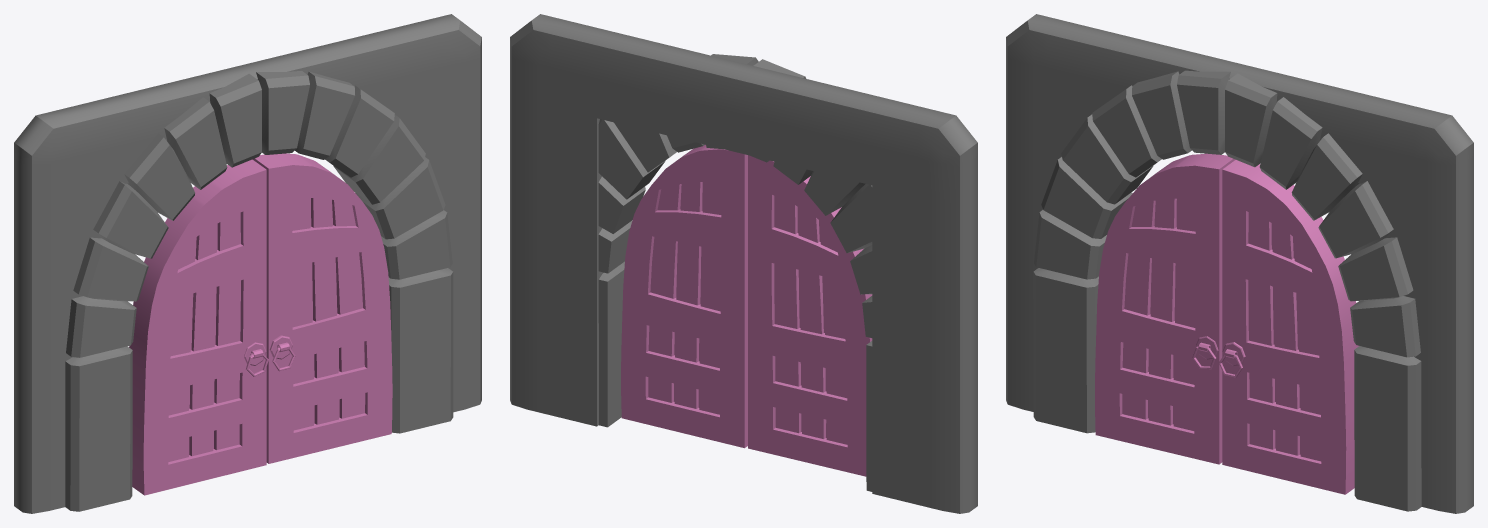
The model's file is LevelPortal.fbx.
3 views of the same model, side by side, from view 1: azimuth 30°, elevation 25°; view 2: azimuth 150°, elevation 25°; view 3: azimuth 330°, elevation 25° (orthographic).
Visible parts, largest first — view 1: Wall, LeftDoor, RightDoor; view 2: Wall, RightDoor, LeftDoor; view 3: Wall, RightDoor, LeftDoor.
Part boxes in pixels (x1,y1,x2,y2): Wall: (14,14,481,513); LeftDoor: (129,159,268,495); RightDoor: (252,153,392,463); Wall: (510,14,977,513); RightDoor: (621,144,747,448); LeftDoor: (748,155,872,476); Wall: (1006,14,1473,513); RightDoor: (1219,160,1358,494); LeftDoor: (1095,153,1235,464).
Bounding box in the file's own units: 145 × 116 × 18.23.
